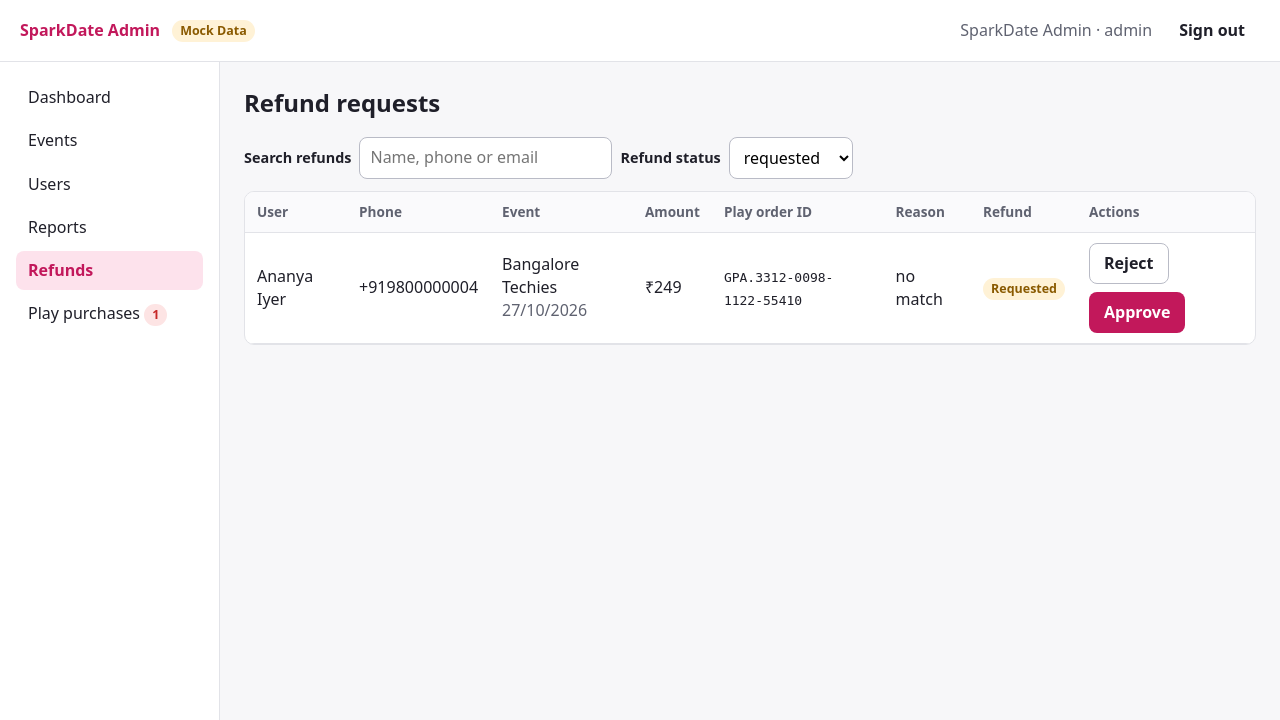
pages (mock API) › approves a refund request (Play refund processed by server)
Click the button with aria-label "Approve refund for Ananya Iyer": (1137, 312) [1089,292,1185,333]
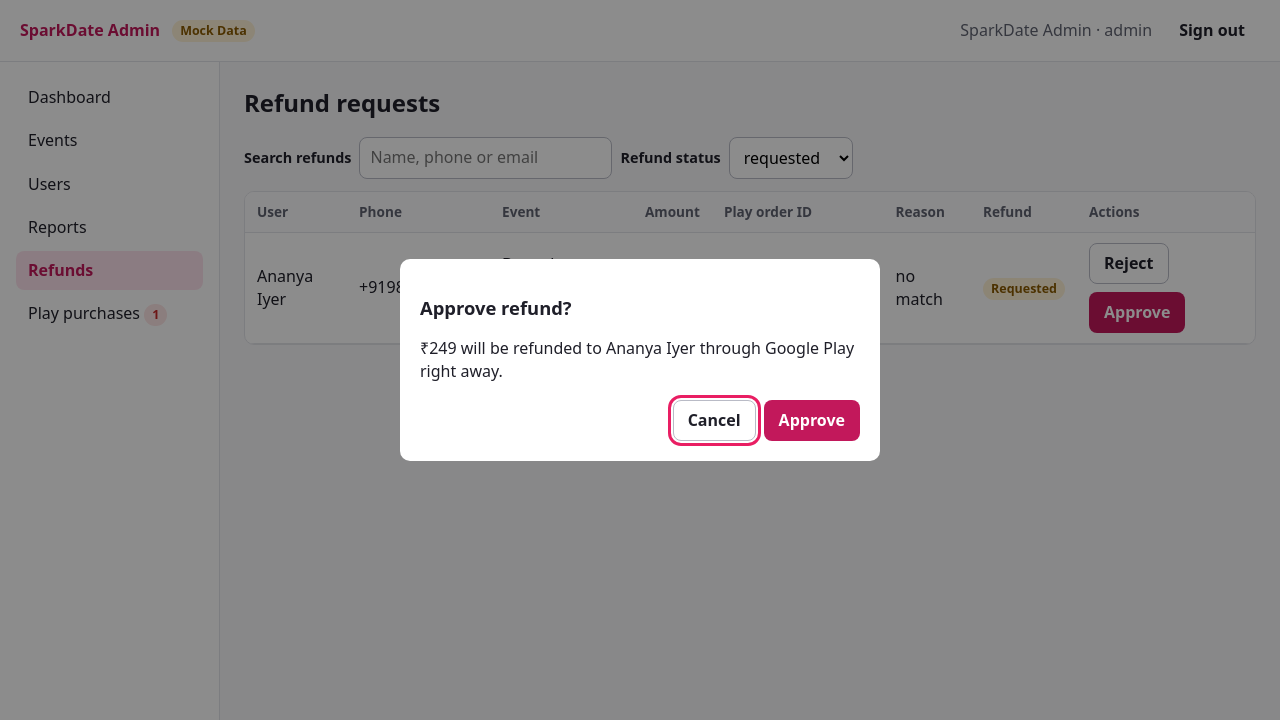
Click the button "Approve": (812, 420) [764,400,860,441]
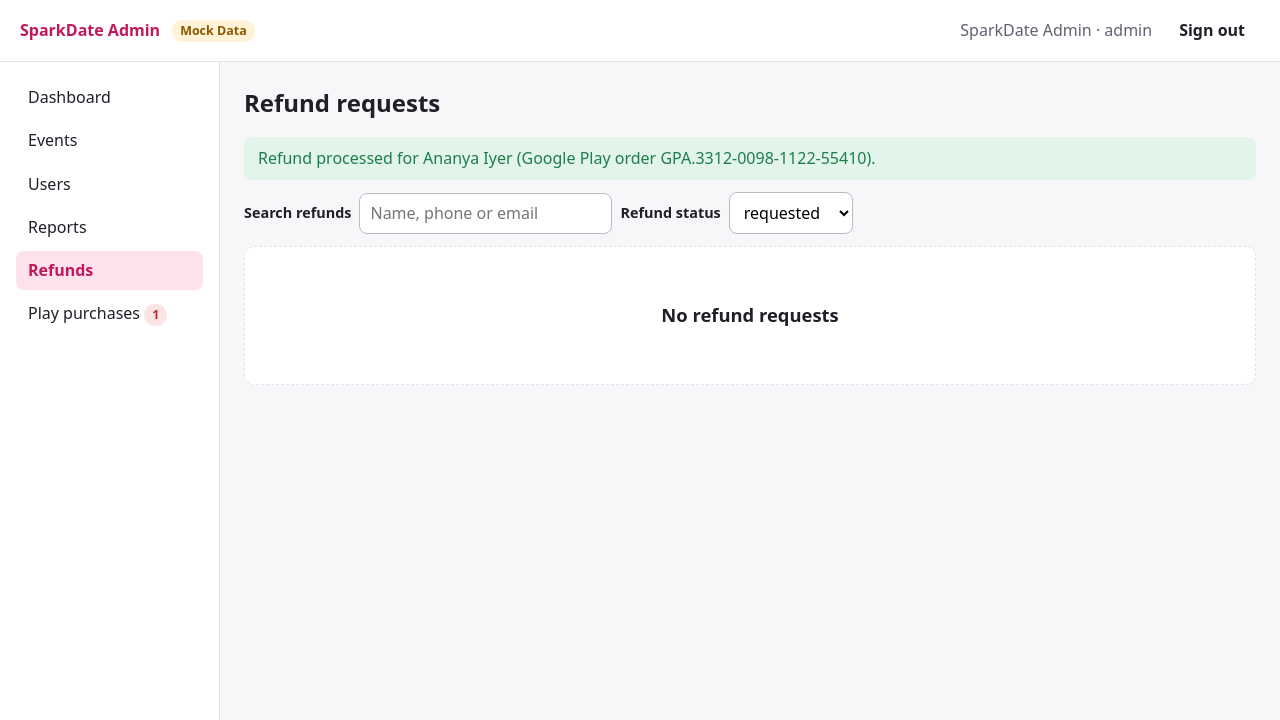
Check: the text "Refund processed for Ananya Iyer (Google Play order GPA.3312-0098-1122-55410)." is shown, box [244,137,1256,180]
